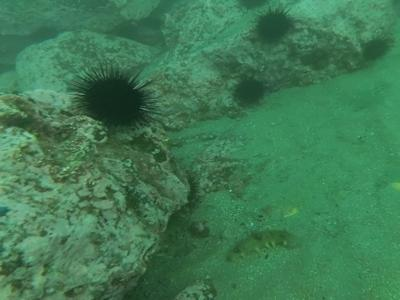holothurian: (219, 228, 296, 261)
urchin: (70, 67, 147, 128), (254, 9, 289, 41), (232, 76, 261, 104), (361, 38, 386, 57)
